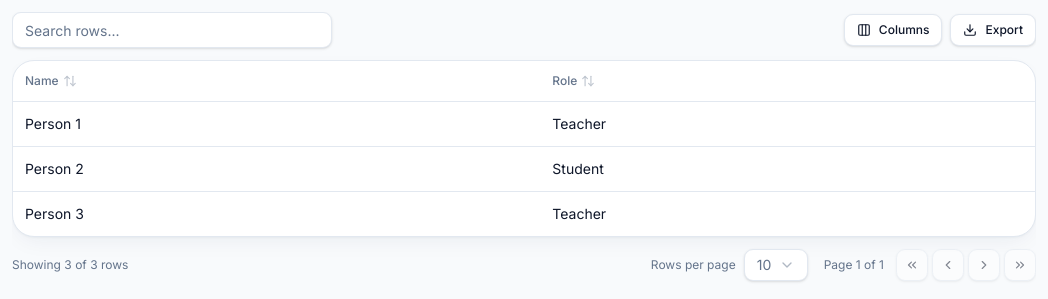
Test case: DataTable — global filter search › filters visible rows down to those matching the search box
The width and height of the screenshot is (1048, 299).
Type "Person 2" into the field with placeholder "Search rows..." at (172, 30), box [12,12,332,48]
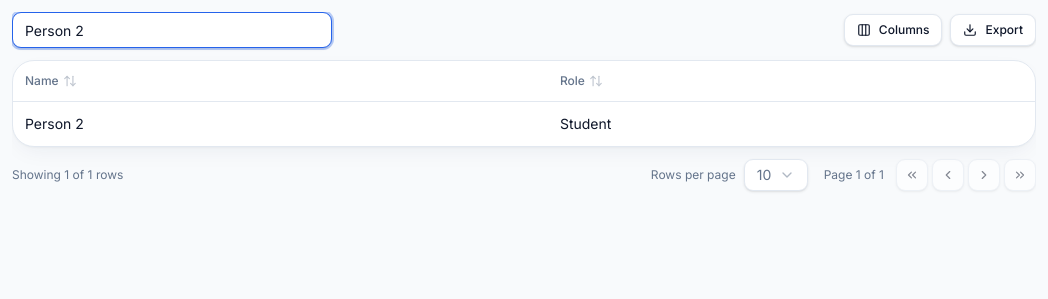
Check: the text "Person 1" is gone
Check: the text "Person 3" is gone
Check: the text "Showing 1 of 1 rows" is shown, box [12,166,123,182]
